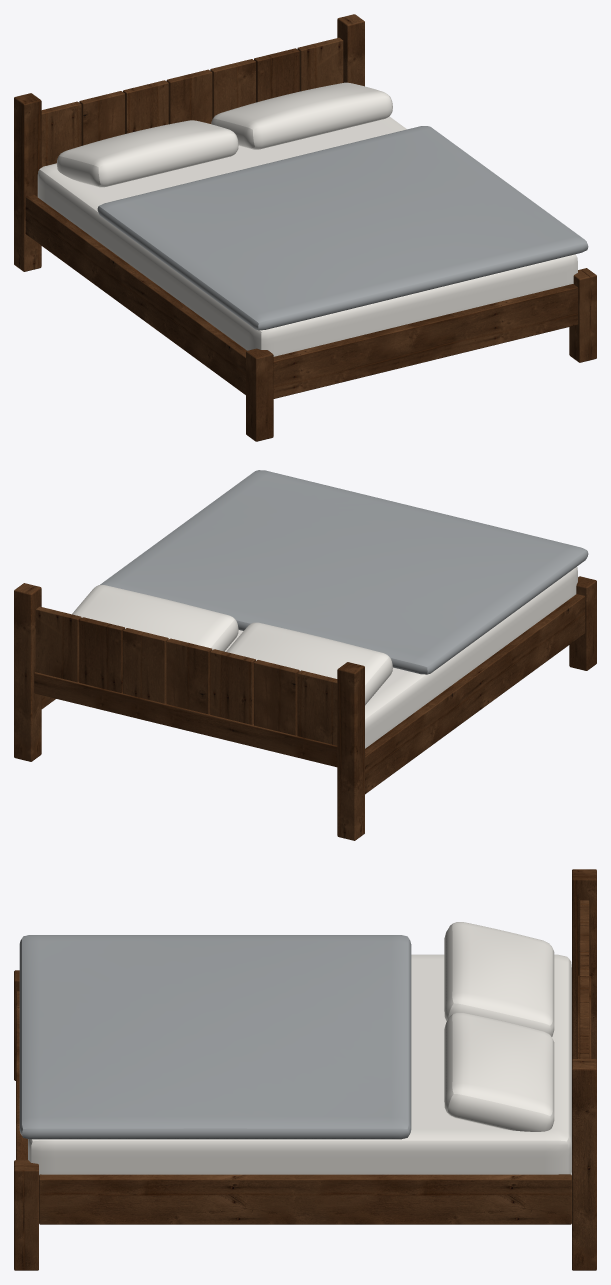
File: bed-lunja.glb
3 views of the same model, one above another, from view 1: azimuth 30°, elevation 25°; view 2: azimuth 150°, elevation 25°; view 3: azimuth 270°, elevation 25° (orthographic). The views are drawn at different scales.
Size of the model in its own units: 1.7 by 0.7999 by 2.09.
3 materials, 1 textured.
